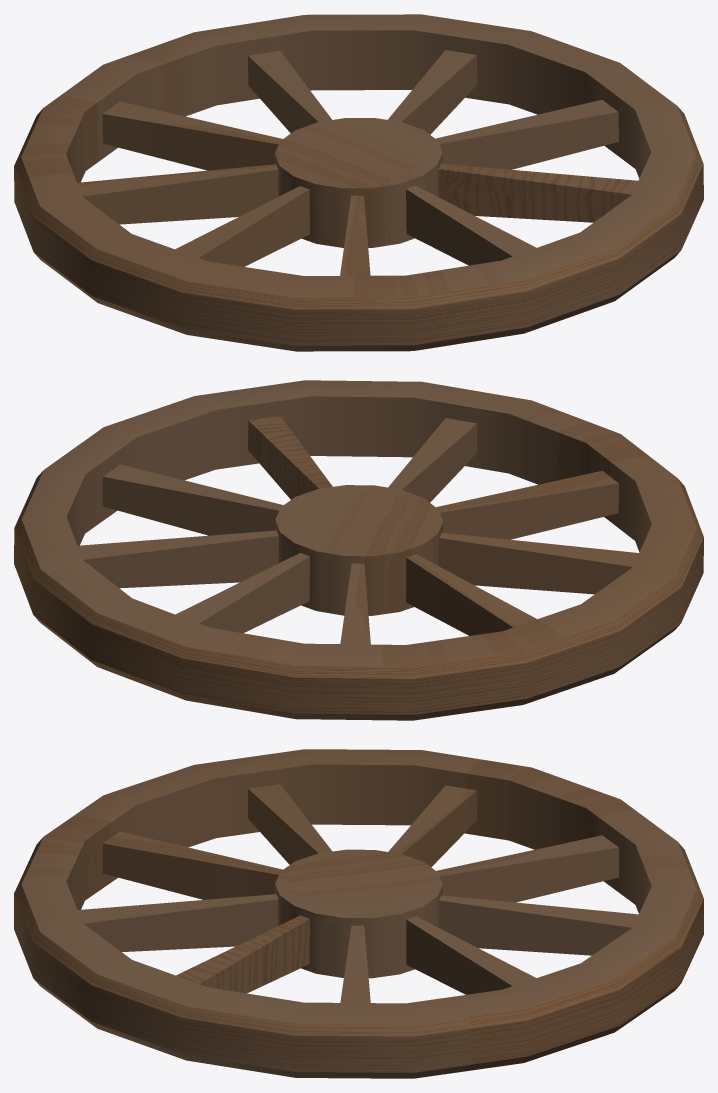
File: Lanta.fbx
The picture shows the model from 3 angles, top to bottom: view 1: azimuth 30°, elevation 25°; view 2: azimuth 150°, elevation 25°; view 3: azimuth 270°, elevation 25°; orthographic projection.
Parts seen in each view (by area): view 1: LLanta; view 2: LLanta; view 3: LLanta.
Part boxes in pixels (bbox=[...]): LLanta: bbox=[14, 14, 703, 351]; LLanta: bbox=[14, 380, 703, 720]; LLanta: bbox=[14, 749, 703, 1078].
Size of the model in its own units: 161 by 17.23 by 163.
